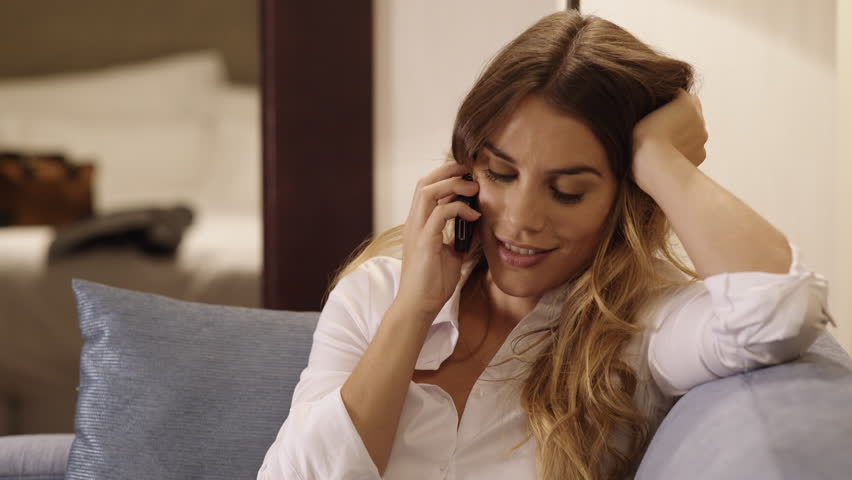phone: (400, 163, 493, 274)
talk: (394, 140, 612, 309)
